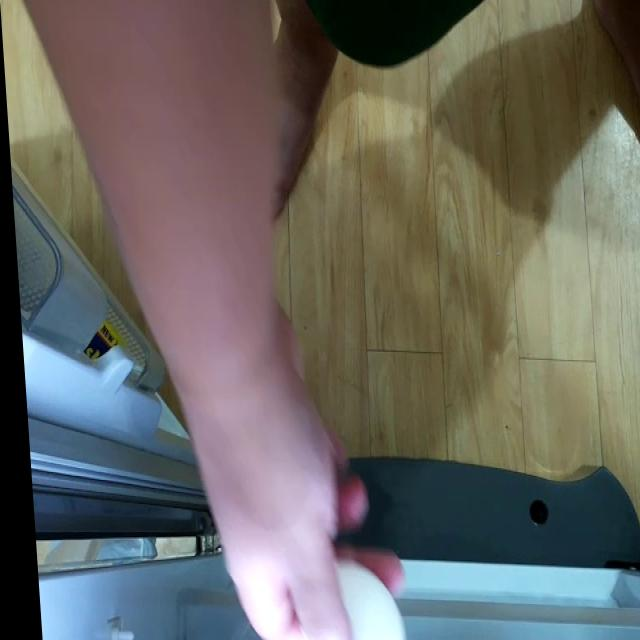egg: (325, 554, 403, 640)
